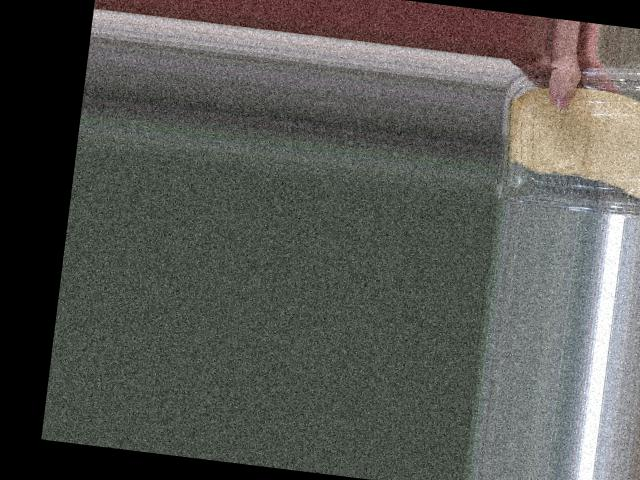cheese: (490, 70, 640, 225)
